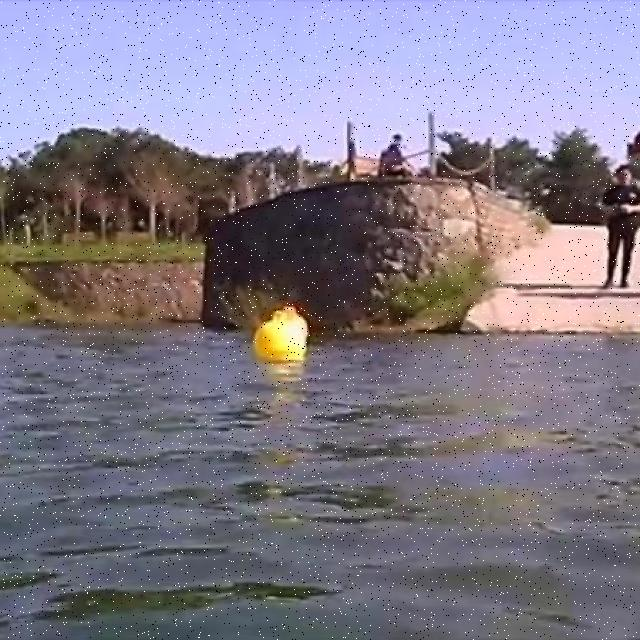buoy: (253, 312, 307, 362)
